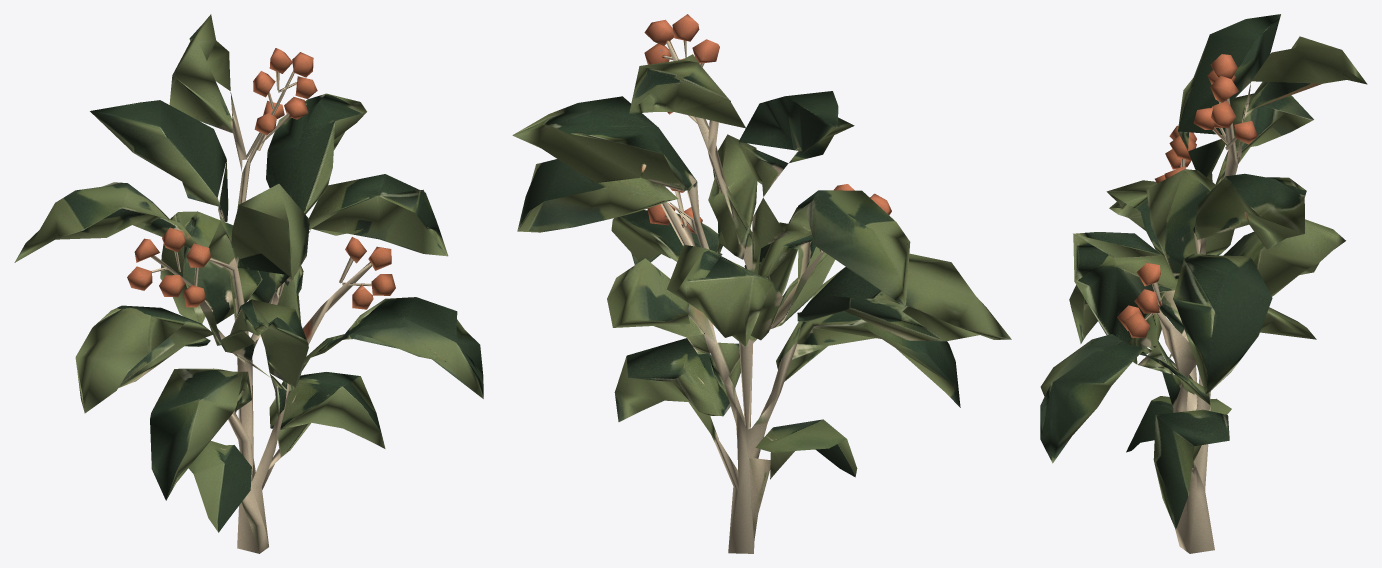
The model's file is AW-VAR-FLORA-008-v0.2.glb.
3 renders of one model, left to right at view 1: azimuth 30°, elevation 25°; view 2: azimuth 150°, elevation 25°; view 3: azimuth 270°, elevation 25°, orthographic. The views are drawn at different scales.
Visible parts, largest first — view 1: AW-VAR-FLORA-008_meter_ground_pivot; view 2: AW-VAR-FLORA-008_meter_ground_pivot; view 3: AW-VAR-FLORA-008_meter_ground_pivot.
Part boxes in pixels (<box>): AW-VAR-FLORA-008_meter_ground_pivot: <box>14,14,483,553</box>; AW-VAR-FLORA-008_meter_ground_pivot: <box>512,14,1011,553</box>; AW-VAR-FLORA-008_meter_ground_pivot: <box>1040,14,1367,553</box>.
Size of the model in its own units: 0.8821 by 1 by 0.5782.
1 material, 1 textured.
